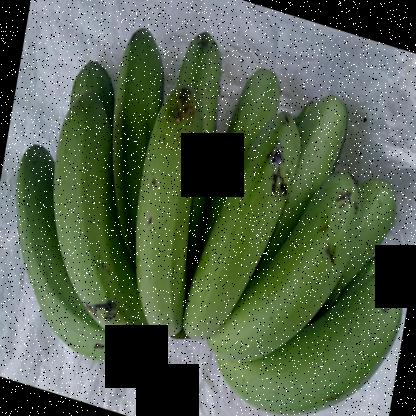unripe: (219, 172, 364, 370), (51, 87, 154, 356), (224, 272, 415, 415), (192, 108, 301, 352), (132, 72, 208, 343), (224, 57, 285, 189), (293, 77, 363, 190), (356, 166, 408, 259)
